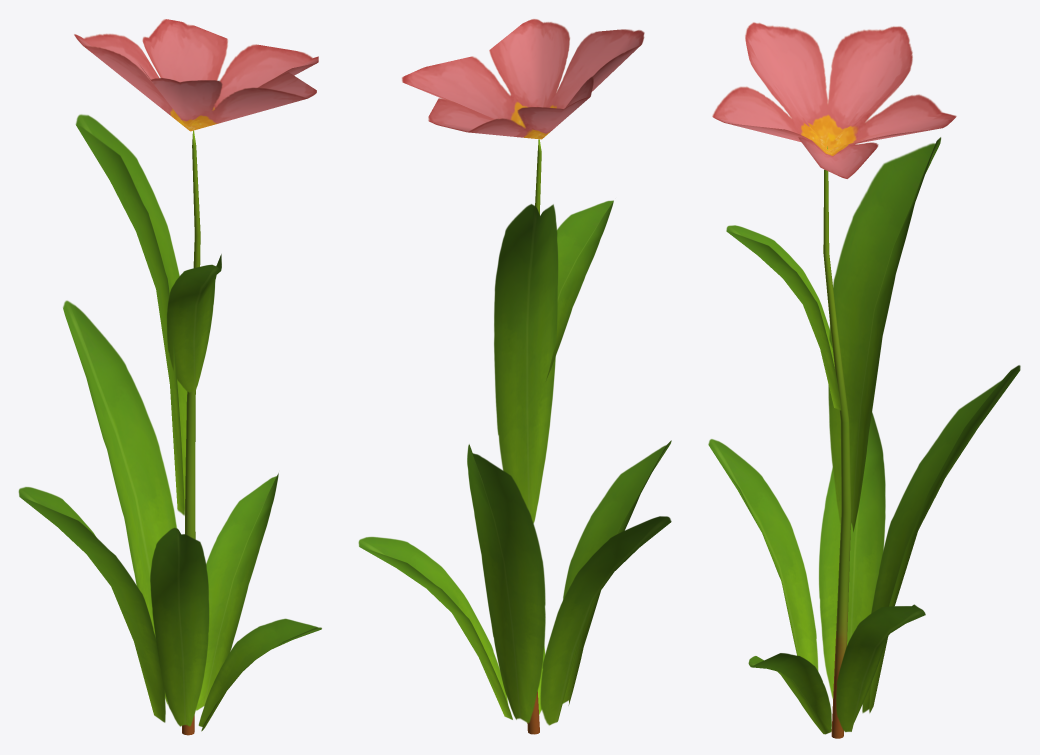
The model's file is Flower.gltf.
The picture shows the model from 3 angles, left to right: view 1: azimuth 30°, elevation 25°; view 2: azimuth 150°, elevation 25°; view 3: azimuth 270°, elevation 25°; orthographic projection. The views are drawn at different scales.
Visible parts, largest first — view 1: Flower_3_Single; view 2: Flower_3_Single; view 3: Flower_3_Single.
Boxes of the visible parts, <box> form: Flower_3_Single: <box>18,19,321,735</box>; Flower_3_Single: <box>358,19,671,734</box>; Flower_3_Single: <box>708,22,1020,738</box>.
Bounding box in the file's own units: 0.9066 × 2.07 × 0.8775.
Materials: 2 (2 with a texture image).
